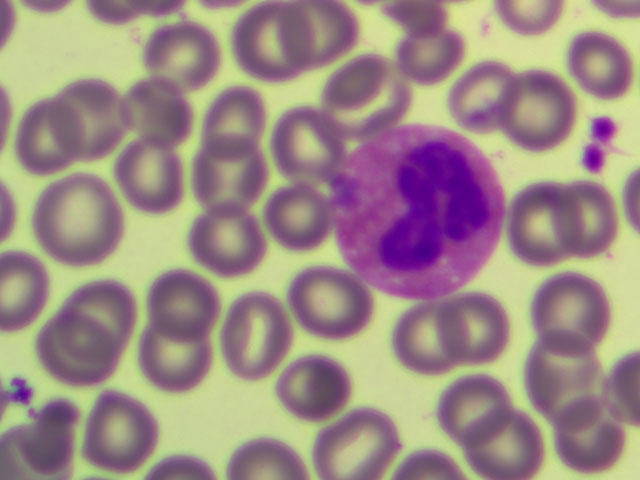Platelets: (588, 115, 617, 140), (585, 143, 607, 174)
RBC: (35, 176, 125, 261), (540, 267, 616, 353), (528, 341, 602, 426), (193, 133, 263, 218), (508, 182, 582, 262), (187, 197, 264, 271), (41, 310, 113, 387), (325, 56, 404, 126), (50, 85, 123, 160), (463, 408, 539, 480), (504, 69, 577, 143), (235, 11, 314, 78), (227, 293, 287, 377), (68, 274, 133, 351), (87, 395, 152, 472), (151, 268, 219, 341), (293, 268, 363, 337), (397, 301, 464, 373), (572, 30, 633, 107), (274, 107, 335, 183), (441, 374, 512, 439), (141, 323, 209, 389), (115, 142, 183, 206), (125, 75, 188, 144), (562, 177, 617, 256), (318, 418, 388, 480), (562, 395, 623, 466), (144, 26, 217, 83), (16, 102, 76, 170), (209, 88, 267, 157), (275, 1, 355, 51), (269, 185, 327, 251), (4, 424, 72, 480), (1, 255, 52, 326), (285, 360, 347, 416), (229, 441, 315, 480), (458, 64, 509, 129), (393, 30, 455, 82), (606, 354, 640, 426), (493, 1, 561, 35), (385, 2, 449, 37), (401, 445, 460, 480), (142, 453, 209, 480), (90, 1, 177, 14), (4, 1, 18, 52), (1, 88, 14, 137), (1, 177, 11, 240)
WBC: (339, 133, 511, 302)
